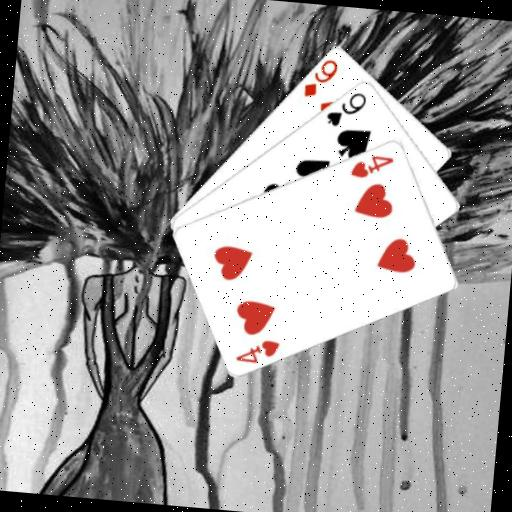4H: (233, 334, 282, 367), (348, 150, 397, 182)
9D: (300, 54, 341, 101)
9S: (322, 86, 369, 131)
